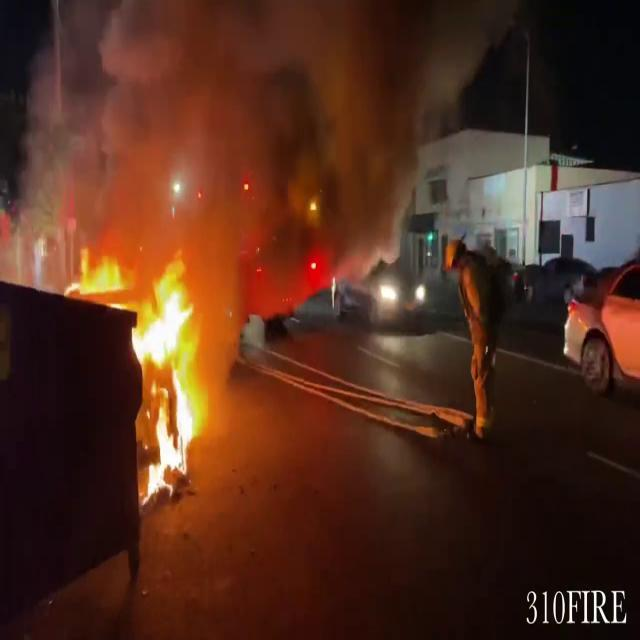Fire: (126, 263, 210, 501)
Smoke: (1, 0, 458, 293)
